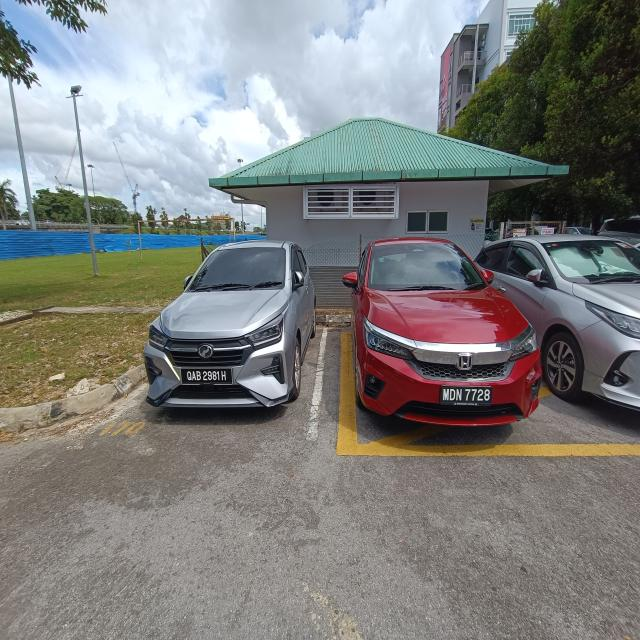PeroduaAxia: (145, 235, 315, 433)
